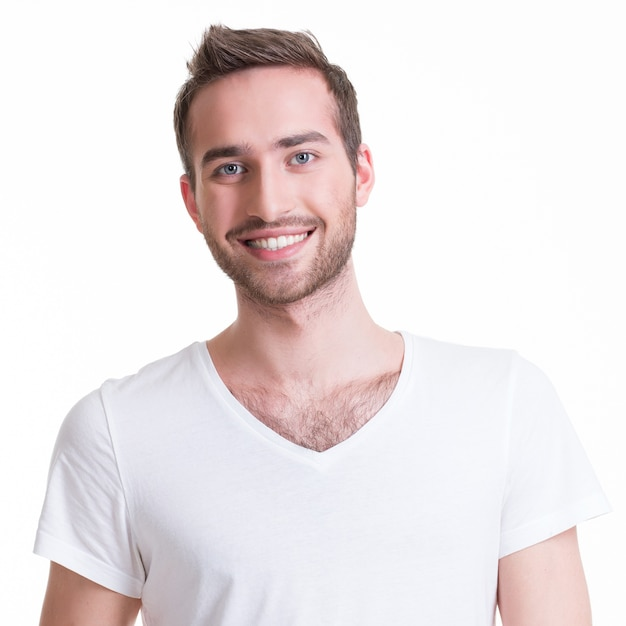young: (171, 24, 368, 308)
